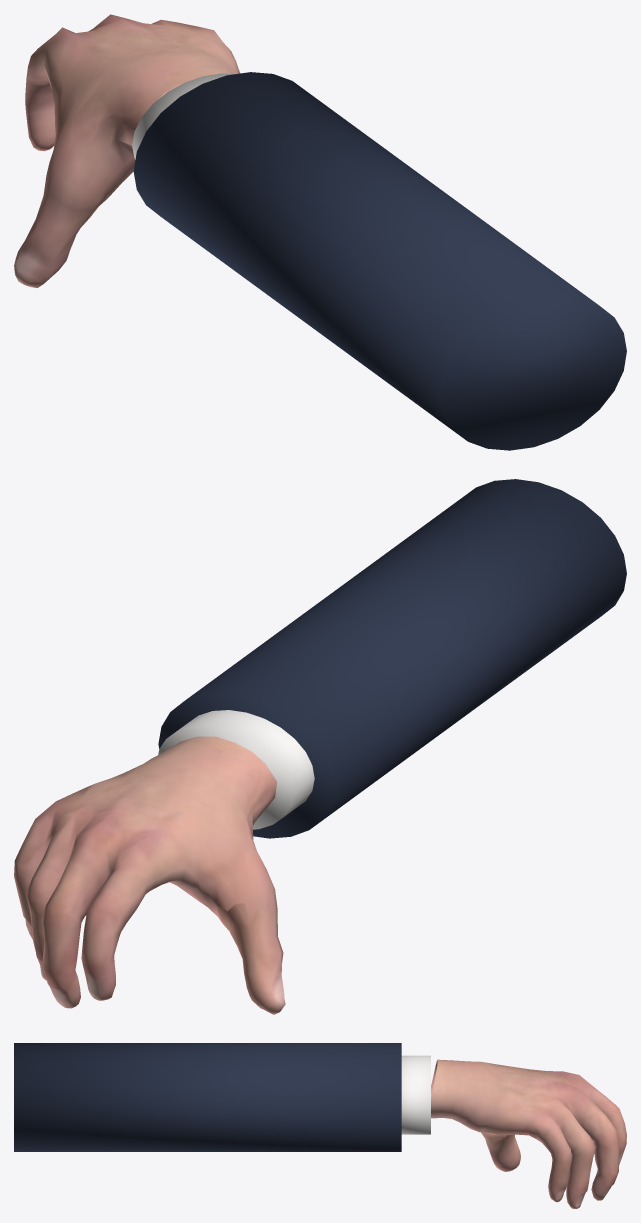
The model's file is fpv_hand_real.glb.
3 views of the same model, one above another, from view 1: azimuth 30°, elevation 25°; view 2: azimuth 150°, elevation 25°; view 3: azimuth 270°, elevation 25° (orthographic). The views are drawn at different scales.
Parts seen in each view (by area): view 1: FPV_Sleeve, FPV_RealHumanHand, FPV_Cuff; view 2: FPV_Sleeve, FPV_RealHumanHand, FPV_Cuff; view 3: FPV_Sleeve, FPV_RealHumanHand, FPV_Cuff.
Part boxes in pixels (left/top/right/bottom): FPV_Sleeve: left=133, top=72, right=626, bottom=450; FPV_RealHumanHand: left=14, top=14, right=240, bottom=287; FPV_Cuff: left=132, top=73, right=234, bottom=159; FPV_Sleeve: left=158, top=479, right=626, bottom=838; FPV_RealHumanHand: left=14, top=736, right=285, bottom=1014; FPV_Cuff: left=158, top=710, right=314, bottom=829; FPV_Sleeve: left=14, top=1043, right=401, bottom=1151; FPV_RealHumanHand: left=431, top=1059, right=626, bottom=1208; FPV_Cuff: left=401, top=1055, right=430, bottom=1134.
Bounding box in the file's own units: 0.1357 × 0.1316 × 0.4743.
3 materials, 1 textured.
